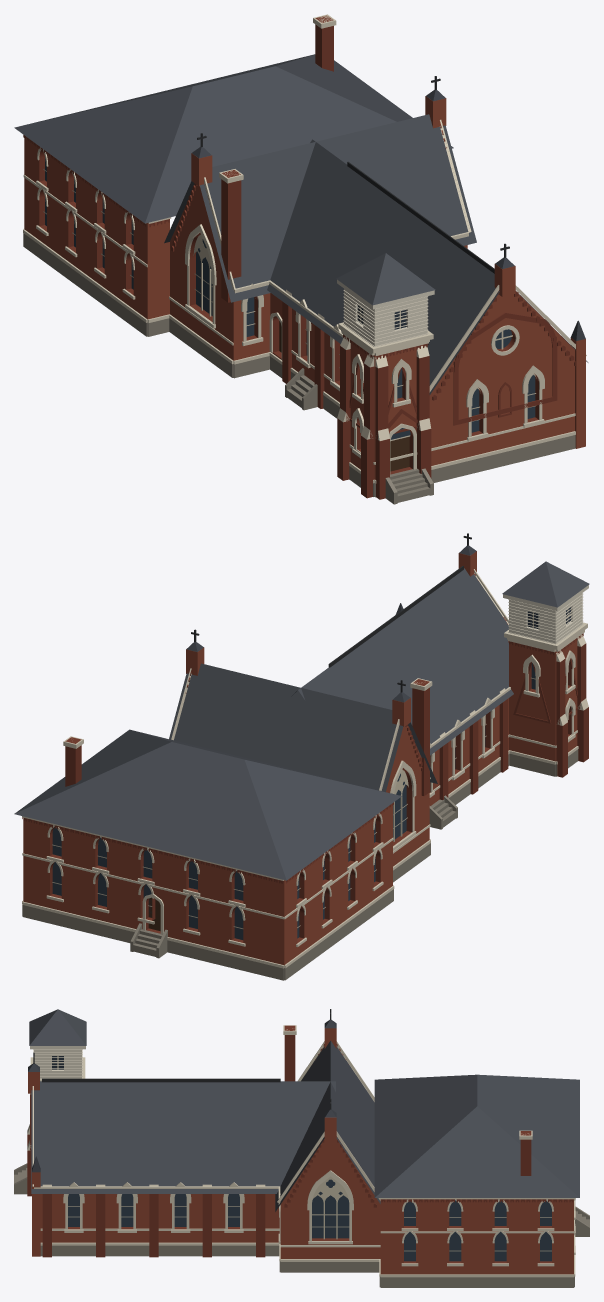
Rendered from ch-church-of-christ-1961.glb.
3 renders of one model, top to bottom at view 1: azimuth 30°, elevation 25°; view 2: azimuth 150°, elevation 25°; view 3: azimuth 270°, elevation 25°, orthographic. The views are drawn at different scales.
Parts seen in each view (by area): view 1: ch_slate, ch_brick, ch_brick2, ch_trim, ch_base, ch_wood, ch_stain, ch_iron, ch_door, ch_trc; view 2: ch_slate, ch_brick, ch_brick2, ch_trim, ch_base, ch_stain, ch_wood, ch_iron; view 3: ch_slate, ch_brick, ch_trim, ch_base, ch_brick2, ch_stain, ch_wood, ch_iron, ch_trc, ch_slate2.
Part boxes in pixels (x1=…): ch_slate: x1=14, y1=54, x2=588, y2=394; ch_brick: x1=24, y1=96, x2=585, y2=479; ch_brick2: x1=23, y1=15, x2=575, y2=499; ch_trim: x1=23, y1=14, x2=586, y2=483; ch_base: x1=23, y1=233, x2=575, y2=504; ch_wood: x1=337, y1=279, x2=434, y2=346; ch_stain: x1=45, y1=157, x2=535, y2=439; ch_iron: x1=197, y1=76, x2=509, y2=273; ch_door: x1=279, y1=321, x2=409, y2=471; ch_trc: x1=193, y1=234, x2=536, y2=421; ch_slate: x1=14, y1=561, x2=589, y2=880; ch_brick: x1=23, y1=551, x2=577, y2=965; ch_brick2: x1=22, y1=573, x2=588, y2=943; ch_trim: x1=22, y1=569, x2=588, y2=968; ch_base: x1=22, y1=749, x2=578, y2=980; ch_stain: x1=52, y1=663, x2=535, y2=939; ch_wood: x1=503, y1=585, x2=588, y2=644; ch_iron: x1=191, y1=533, x2=471, y2=692; ch_slate: x1=29, y1=1009, x2=579, y2=1211; ch_brick: x1=28, y1=1028, x2=573, y2=1274; ch_trim: x1=27, y1=1025, x2=575, y2=1277; ch_base: x1=14, y1=1163, x2=589, y2=1287; ch_brick2: x1=27, y1=1025, x2=573, y2=1263; ch_stain: x1=68, y1=1179, x2=551, y2=1261; ch_wood: x1=30, y1=1046, x2=85, y2=1079; ch_iron: x1=33, y1=1009, x2=331, y2=1109; ch_trc: x1=68, y1=1176, x2=349, y2=1239; ch_slate2: x1=28, y1=1020, x2=336, y2=1172.
Bounding box in the file's own units: 21 × 14.69 × 43.2.
